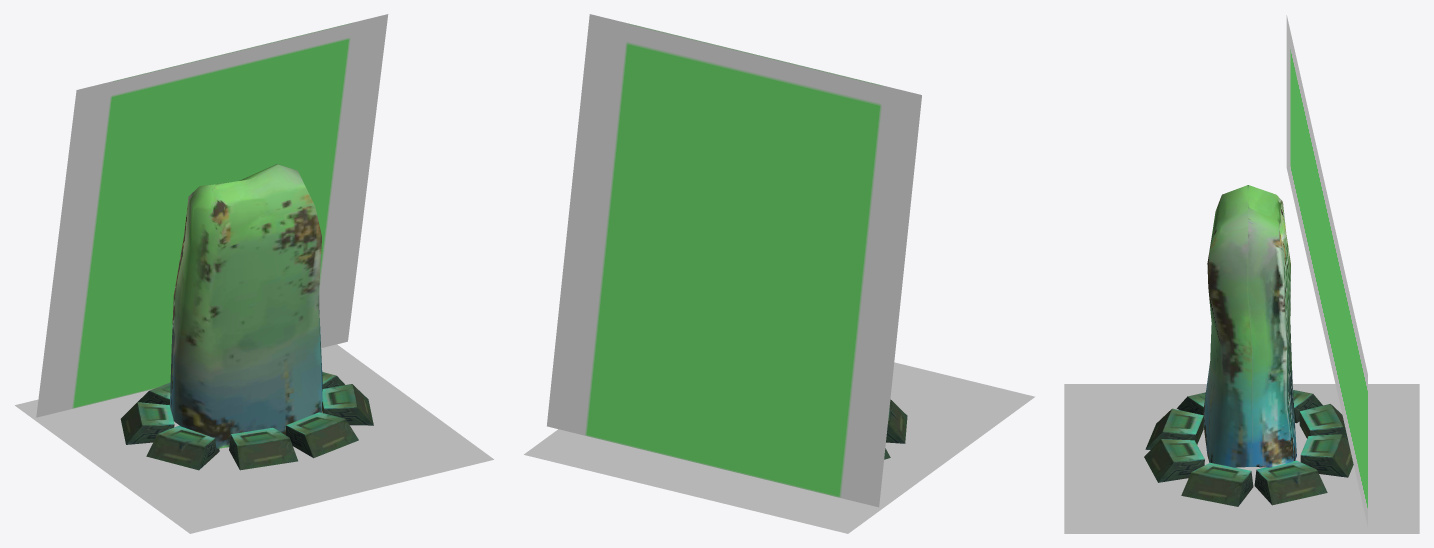
File: Gimmick_portal002.fbx
3 renders of one model, left to right at view 1: azimuth 30°, elevation 25°; view 2: azimuth 150°, elevation 25°; view 3: azimuth 270°, elevation 25°, orthographic. The views are drawn at different scales.
Visible parts, largest first — view 1: Light, Gimmick_Portal002, Gimmick_HakaiTaru001_shadow; view 2: Light, Gimmick_HakaiTaru001_shadow, Gimmick_Portal002; view 3: Gimmick_Portal002, Gimmick_HakaiTaru001_shadow, Light.
Boxes of the visible parts, box(x1,y1,x2,y2) form: Light: box(36, 14, 388, 417); Gimmick_Portal002: box(120, 164, 373, 470); Gimmick_HakaiTaru001_shadow: box(15, 344, 493, 533); Light: box(547, 14, 921, 507); Gimmick_HakaiTaru001_shadow: box(524, 362, 1034, 533); Gimmick_Portal002: box(884, 399, 907, 459); Gimmick_Portal002: box(1144, 185, 1353, 506); Gimmick_HakaiTaru001_shadow: box(1064, 384, 1419, 533); Light: box(1286, 15, 1367, 526).
Size of the model in its own units: 1.7 by 1.9 by 1.66.
